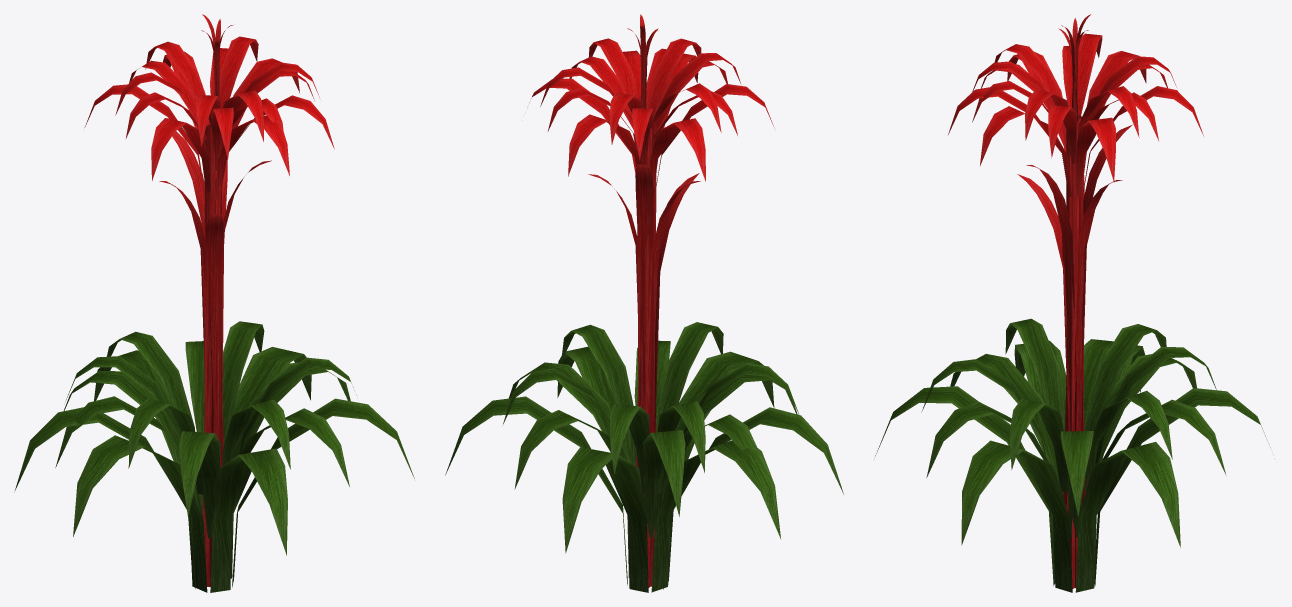
File: Flower3.FBX
3 views of the same model, side by side, from view 1: azimuth 30°, elevation 25°; view 2: azimuth 150°, elevation 25°; view 3: azimuth 270°, elevation 25° (orthographic).
Visible parts, largest first — view 1: Plane041; view 2: Plane041; view 3: Plane041.
Part boxes in pixels (box(x1,y1,x2,y2)): Plane041: box(14, 14, 414, 592); Plane041: box(445, 14, 843, 592); Plane041: box(875, 14, 1270, 592).
Size of the model in its own units: 60.67 by 103 by 66.27.
